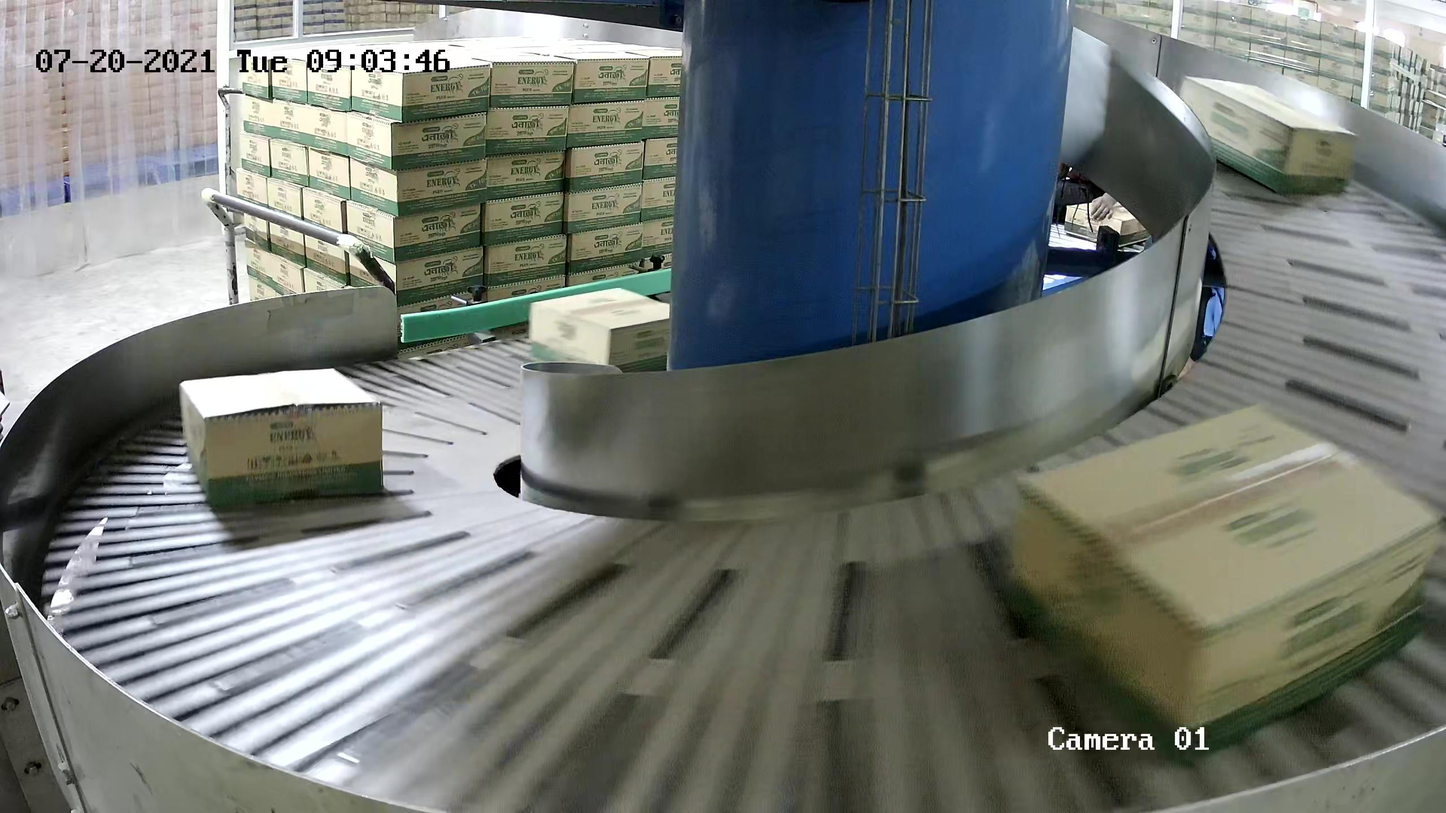Box: (1001, 399, 1446, 762), (179, 364, 387, 510), (1172, 71, 1360, 200), (528, 287, 687, 380)
